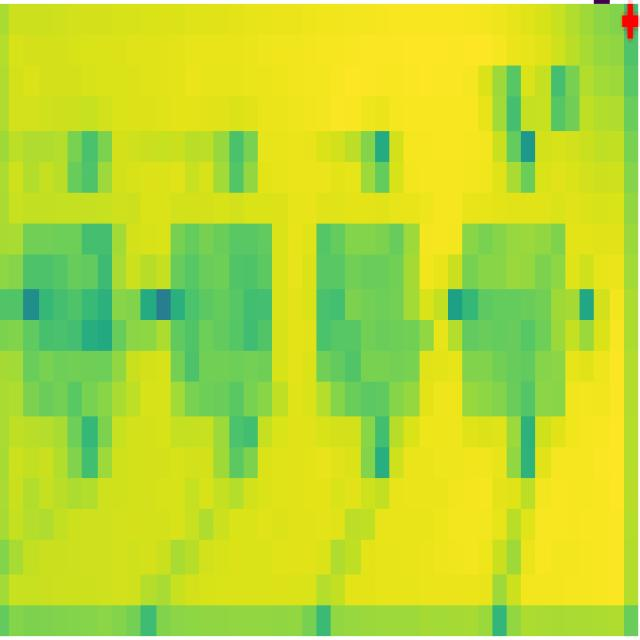Concrete: (464, 222, 566, 416)
Glass: (316, 226, 420, 416)
Metal: (23, 222, 128, 418)
Wood: (172, 218, 274, 418)
